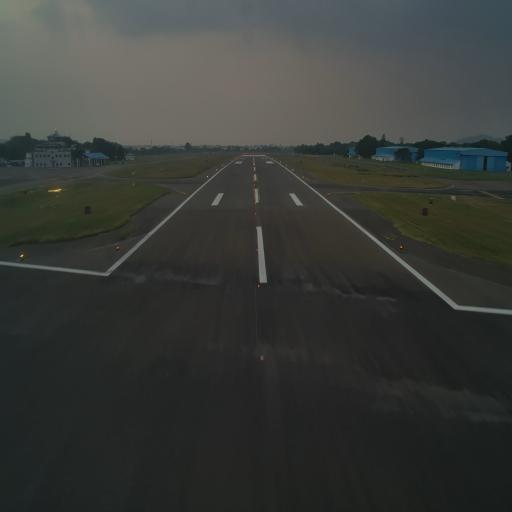on: (17, 250, 27, 266), (260, 353, 265, 363), (399, 243, 404, 250), (116, 244, 120, 252), (257, 282, 261, 290), (256, 246, 258, 254)
